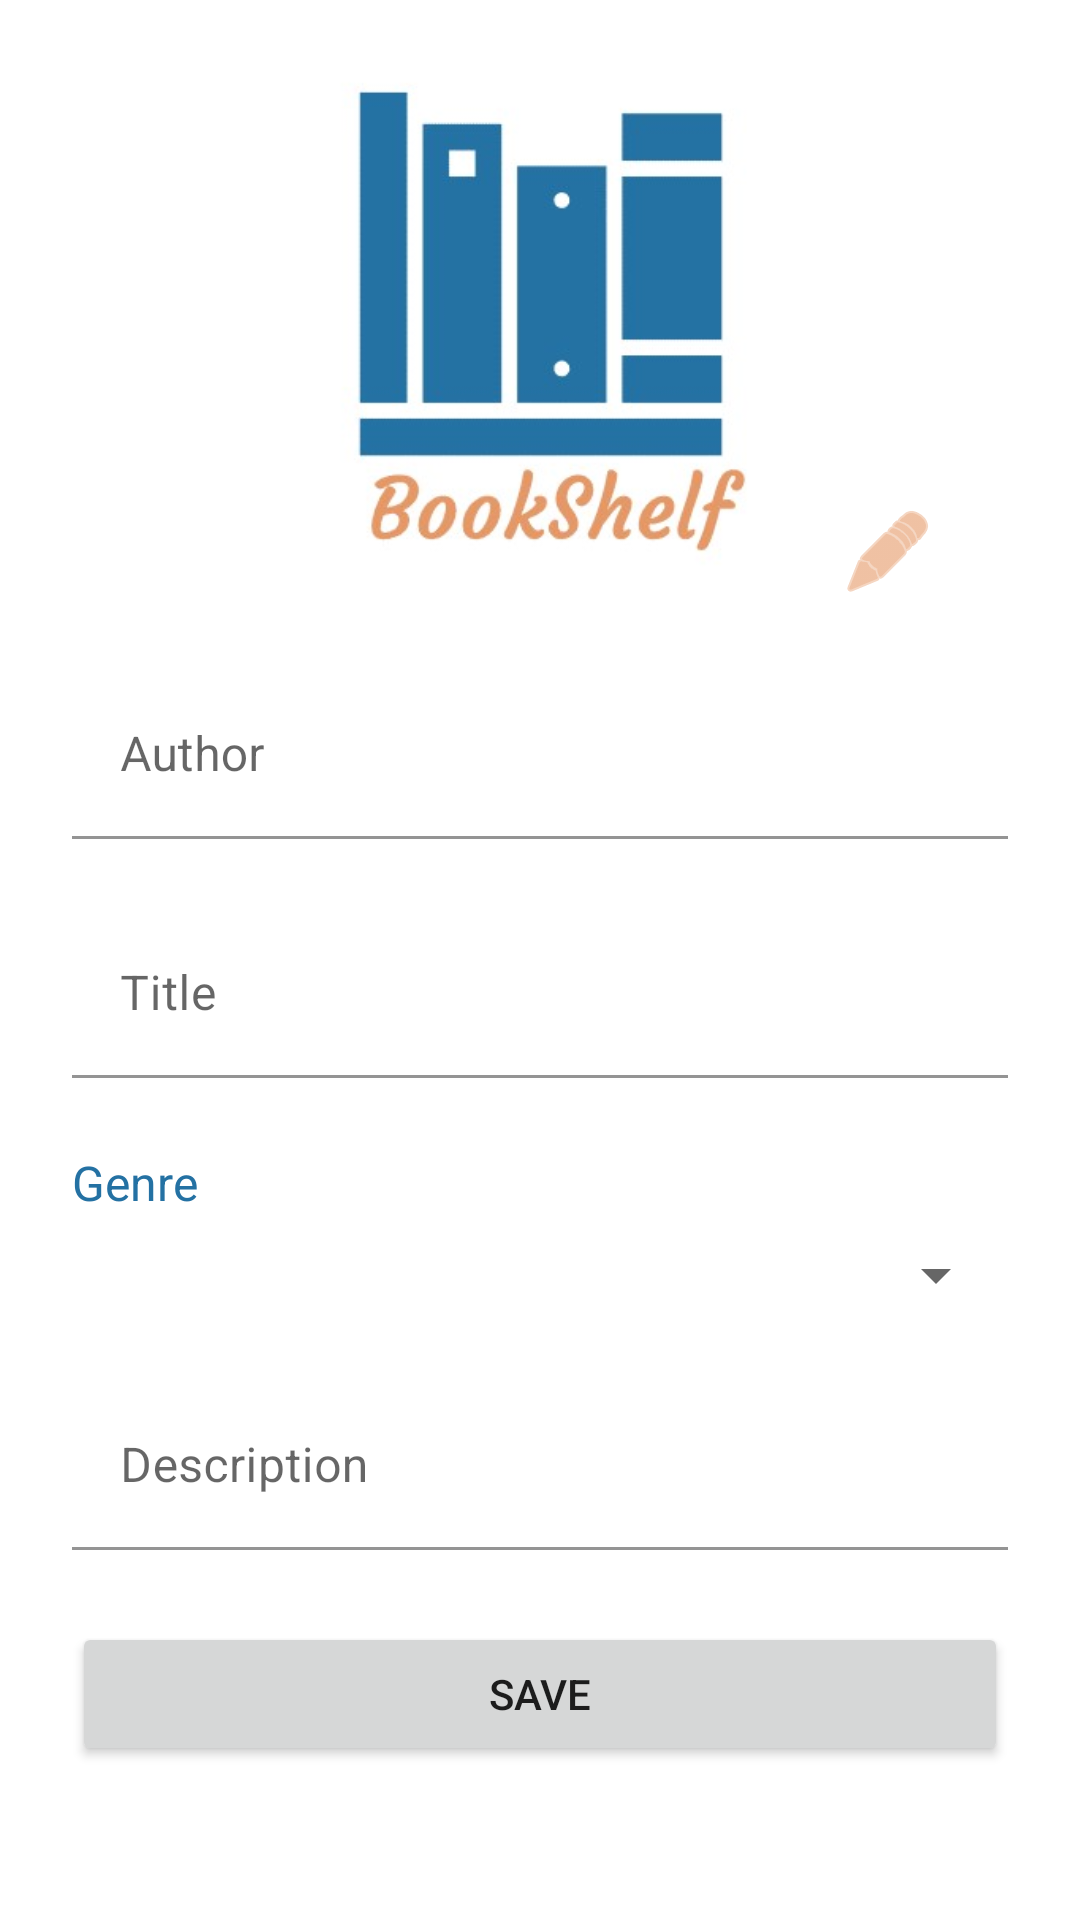

Named icons in this screenshot (1080 × 1920) and their bounding boxes, bbox=(x1, y1, x2, y2):
edit: bbox=(847, 511, 928, 592)
